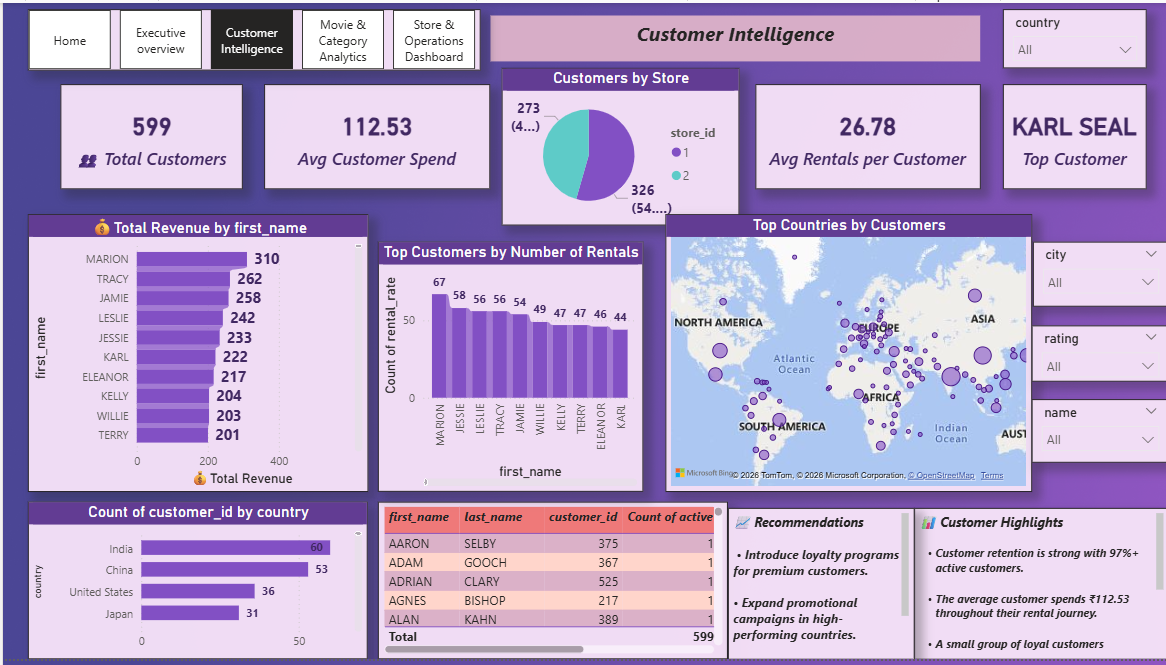

The dashboard page shown, as its layout file describes it:
{"tool":"powerbi","page":{"name":"Customer Intelligence","canvas":[1280,720],"ordinal":2},"visuals":[{"type":"textbox","box":[535.2,13.7,537.9,50.8],"z":0},{"type":"card","fields":{"Values":["Table.👥 Total Customers"]},"box":[63.1,89.2,200.3,115.3],"z":1000},{"type":"card","fields":{"Values":["Table.Avg Customer Spend"]},"box":[286.8,89.2,248.4,115.3],"z":2000},{"type":"card","fields":{"Values":["Table.Avg Rentals per Customer"]},"box":[826.1,89.2,247,115.3],"z":3000},{"type":"card","fields":{"Values":["Table.Top Customer"]},"box":[1097.8,89.2,157.8,115.3],"z":4000},{"type":"barChart","fields":{"Category":["customer.first_name","customer.last_name"],"Y":["Table.💰Total Revenue"]},"box":[27.4,231.9,373.2,304.6],"z":5000},{"type":"clusteredBarChart","fields":{"Category":["country.country"],"Y":["CountNonNull(customer.customer_id)"]},"box":[27,547,373,173],"z":6000},{"type":"pieChart","title":"Customers by Store","fields":{"Category":["store.store_id"],"Y":["CountNonNull(customer.first_name)"]},"box":[547.5,71.4,260.7,172.9],"z":7000},{"type":"map","title":"Top Countries by Customers","fields":{"Category":["country.country"],"Size":["CountNonNull(customer.customer_id)"]},"box":[727.3,231.9,402.1,304.6],"z":8000},{"type":"tableEx","fields":{"Values":["customer.first_name","customer.last_name","customer.customer_id","CountNonNull(customer.active)","Table.💰Total Revenue","Table.🎬 Total Rentals"]},"box":[411.7,547.5,384.2,172.9],"z":9000},{"type":"slicer","fields":{"Values":["country.country"]},"box":[1097.8,6.9,157.8,64.5],"z":10000},{"type":"slicer","fields":{"Values":["city.city"]},"box":[1130.7,262.1,149.6,71.4],"z":11000},{"type":"slicer","fields":{"Values":["film.rating"]},"box":[1129.3,354,150.9,61.7],"z":12000},{"type":"slicer","fields":{"Values":["category.name"]},"box":[1129.3,435,150.9,70],"z":13000},{"type":"columnChart","title":"Top Customers by Number of Rentals","fields":{"Y":["CountNonNull(film.rental_rate)"],"Category":["customer.first_name"]},"box":[411.7,262.1,290.9,274.4],"z":14000},{"type":"textbox","box":[1000.3,554.4,279.9,166],"z":15000},{"type":"textbox","box":[795.9,554.4,204.5,166],"z":16000},{"type":"pageNavigator","box":[27.4,6.9,496.7,67.2],"z":17000}]}

Visuals, with their boxes in screenshot pixels (x1, y1, x2, y2), scaled from the page's 1280x720 canvas onto the 1166x665 screenshot:
textbox: select_region(488, 13, 978, 60)
card - Table.👥 Total Customers: select_region(57, 82, 240, 189)
card - Table.Avg Customer Spend: select_region(261, 82, 488, 189)
card - Table.Avg Rentals per Customer: select_region(753, 82, 978, 189)
card - Table.Top Customer: select_region(1000, 82, 1144, 189)
barChart - customer.first_name x customer.last_name: select_region(25, 214, 365, 496)
clusteredBarChart - country.country x CountNonNull(customer.customer_id): select_region(25, 505, 364, 664)
"Customers by Store" pieChart: select_region(499, 66, 736, 226)
"Top Countries by Customers" map: select_region(663, 214, 1029, 496)
tableEx - customer.first_name x customer.last_name: select_region(375, 506, 725, 664)
slicer - country.country: select_region(1000, 6, 1144, 66)
slicer - city.city: select_region(1030, 242, 1165, 308)
slicer - film.rating: select_region(1029, 327, 1165, 384)
slicer - category.name: select_region(1029, 402, 1165, 466)
"Top Customers by Number of Rentals" columnChart: select_region(375, 242, 640, 496)
textbox: select_region(911, 512, 1165, 664)
textbox: select_region(725, 512, 911, 664)
pageNavigator: select_region(25, 6, 477, 68)
